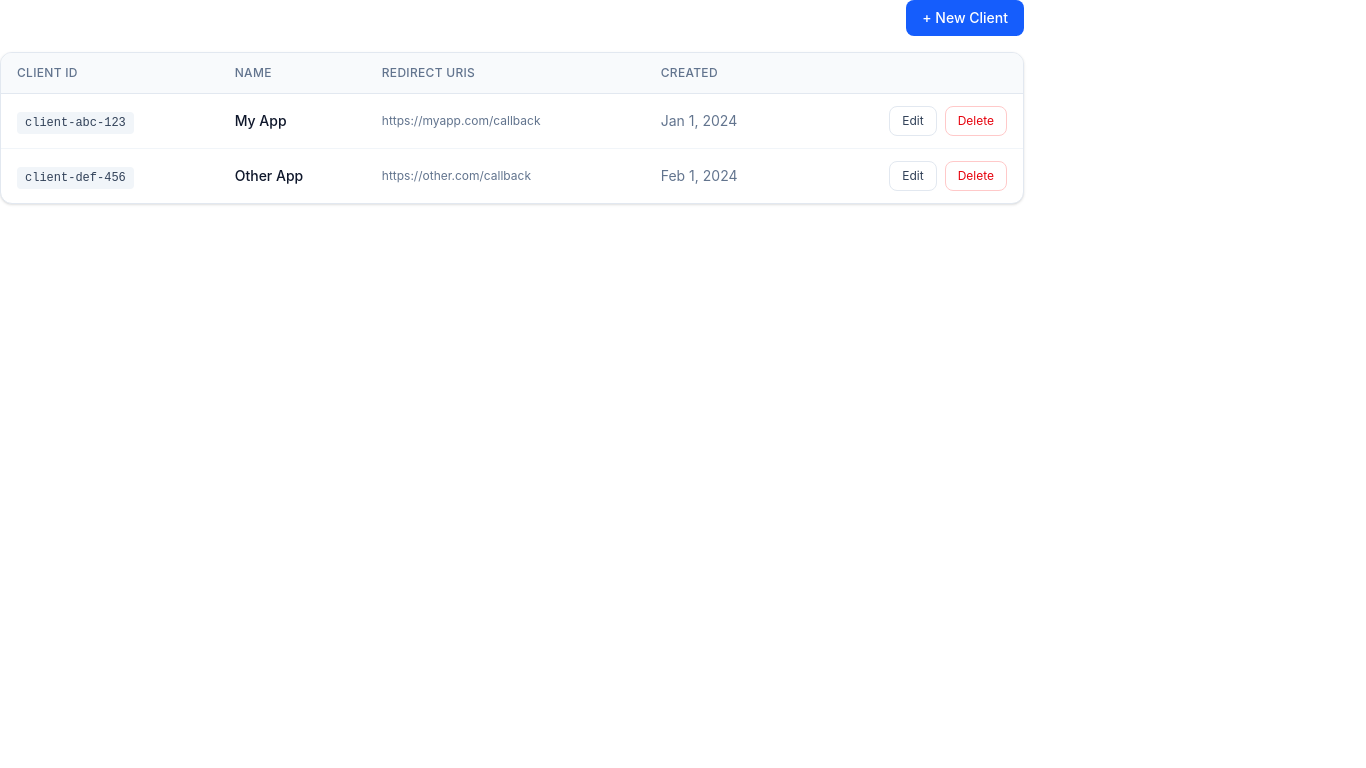
Test case: ClientsView › "New Client" button opens modal
Click the button "+ New Client".
click(965, 18)  # box top-left (906, 0), bottom-right (1024, 36)
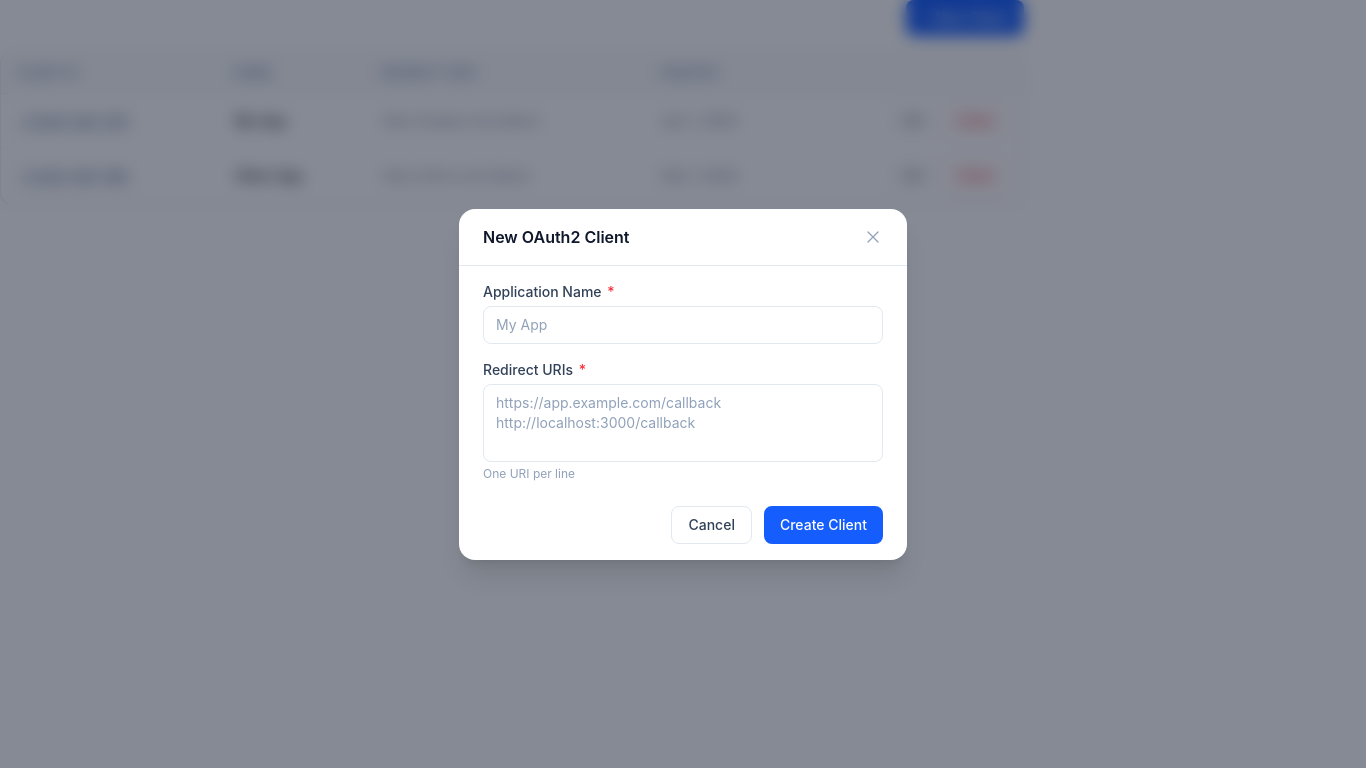
Expected: the text "New OAuth2 Client" is shown, top-left (483, 224), bottom-right (630, 248)
